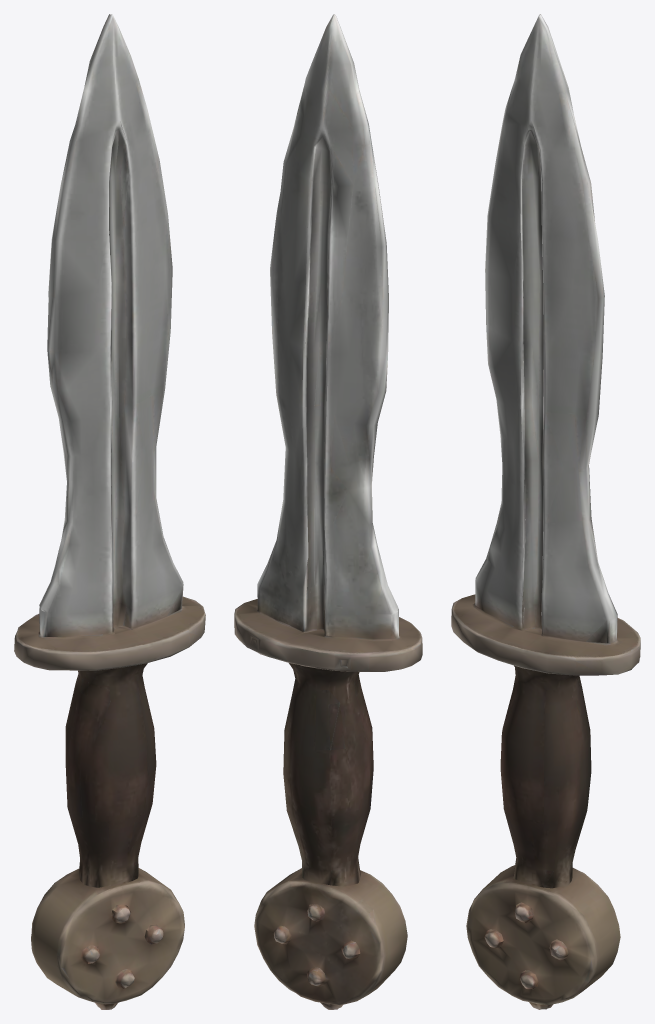
File: dagger.glb
The picture shows the model from 3 angles, left to right: view 1: azimuth 30°, elevation 25°; view 2: azimuth 150°, elevation 25°; view 3: azimuth 330°, elevation 25°; orthographic projection.
Visible parts, largest first — view 1: weapon; view 2: weapon; view 3: weapon.
Boxes of the visible parts, x1,y1,x2,y2 form: weapon: [14, 14, 205, 1009]; weapon: [234, 14, 422, 1009]; weapon: [451, 14, 640, 1009].
Size of the model in its own units: 0.189 by 1 by 0.1142.
1 material, 1 textured.
